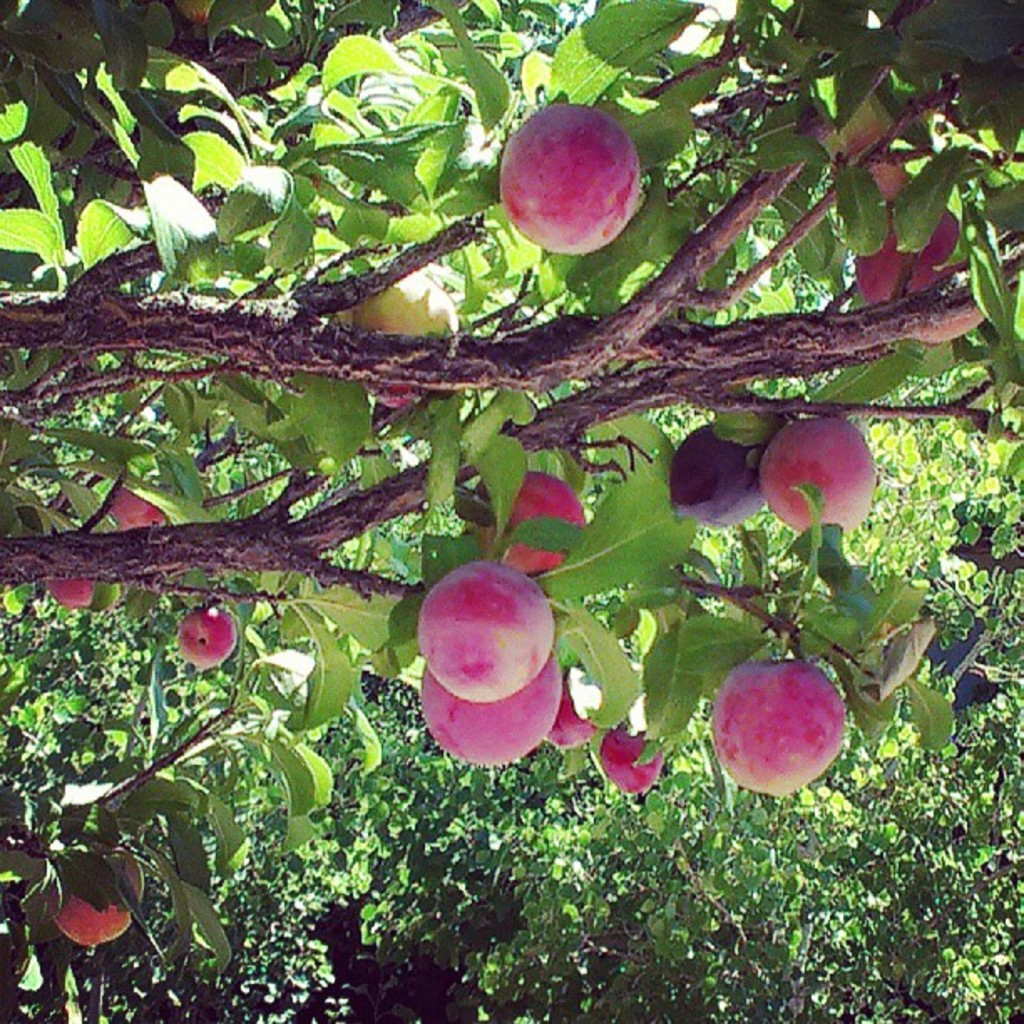Apple: (491, 120, 657, 257), (414, 558, 555, 701), (317, 264, 456, 409), (704, 655, 841, 793), (458, 460, 587, 580), (418, 659, 563, 762), (766, 416, 876, 532), (667, 411, 759, 527), (853, 217, 943, 301), (46, 880, 127, 947), (885, 204, 963, 269), (602, 724, 665, 798), (841, 147, 921, 202), (180, 600, 239, 665), (538, 686, 595, 746), (103, 485, 175, 527), (38, 577, 93, 607)
